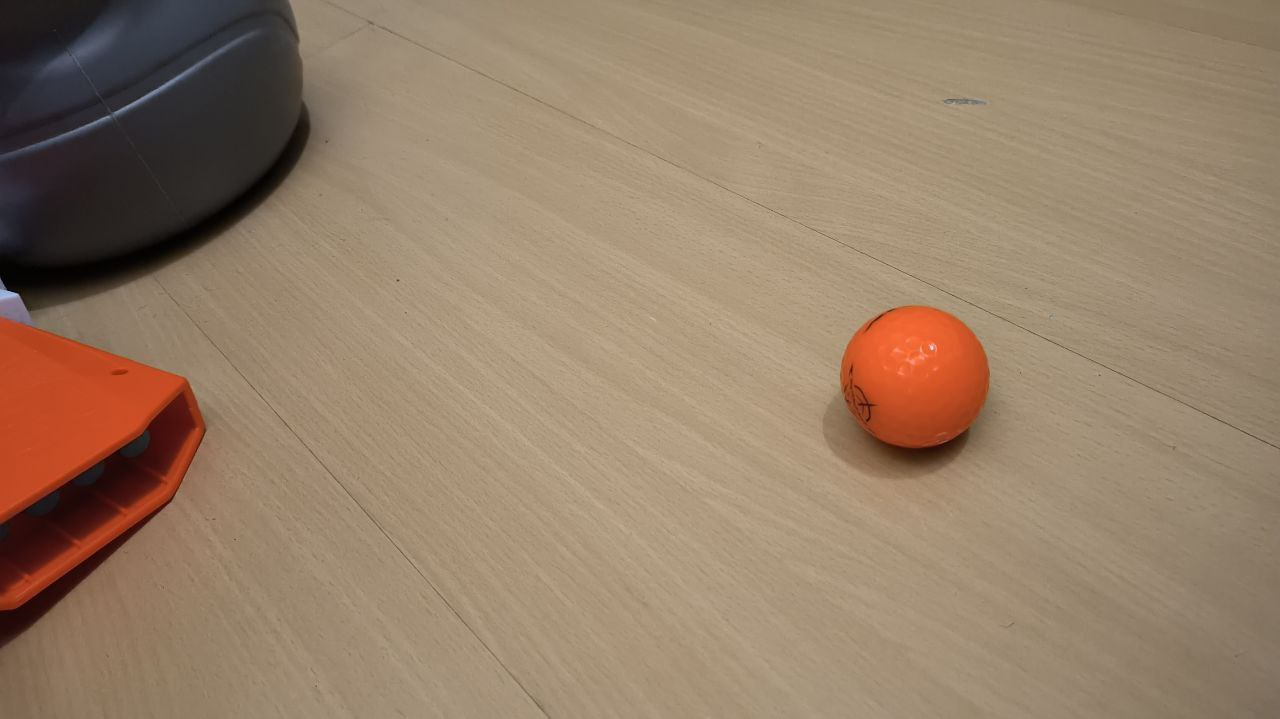orange_ball: (838, 305, 990, 449)
